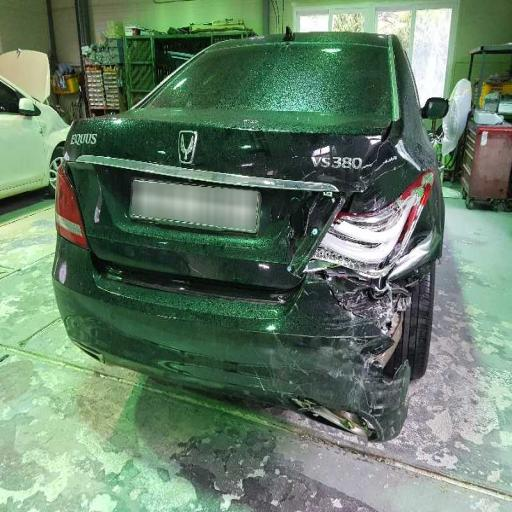broken: (294, 166, 451, 424)
